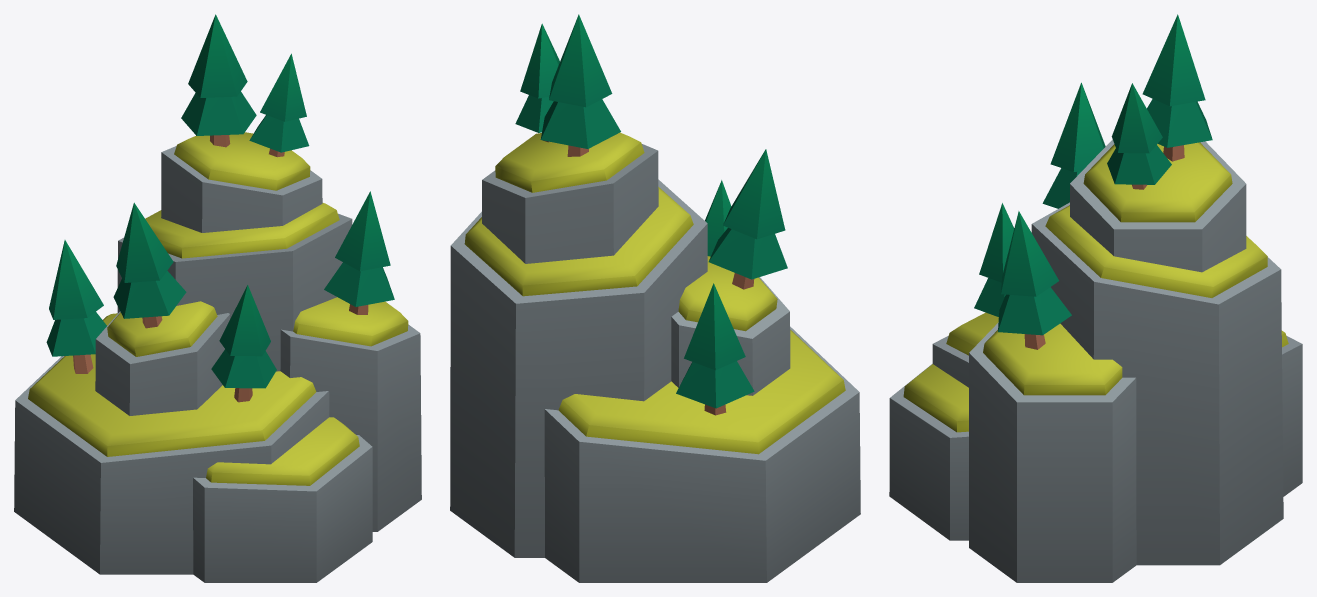
The model's file is mountain_B_grass_trees.glb.
The picture shows the model from 3 angles, left to right: view 1: azimuth 30°, elevation 25°; view 2: azimuth 150°, elevation 25°; view 3: azimuth 270°, elevation 25°; orthographic projection. The views are drawn at different scales.
Visible parts, largest first — view 1: mountain_B_grass_trees; view 2: mountain_B_grass_trees; view 3: mountain_B_grass_trees.
Part boxes in pixels (box(x1,y1,x2,y2)): mountain_B_grass_trees: box(14, 14, 421, 582); mountain_B_grass_trees: box(450, 14, 860, 582); mountain_B_grass_trees: box(889, 14, 1302, 582).
Bounding box in the file's own units: 1.8 × 2.5 × 1.88.
Materials: 1 (1 with a texture image).
